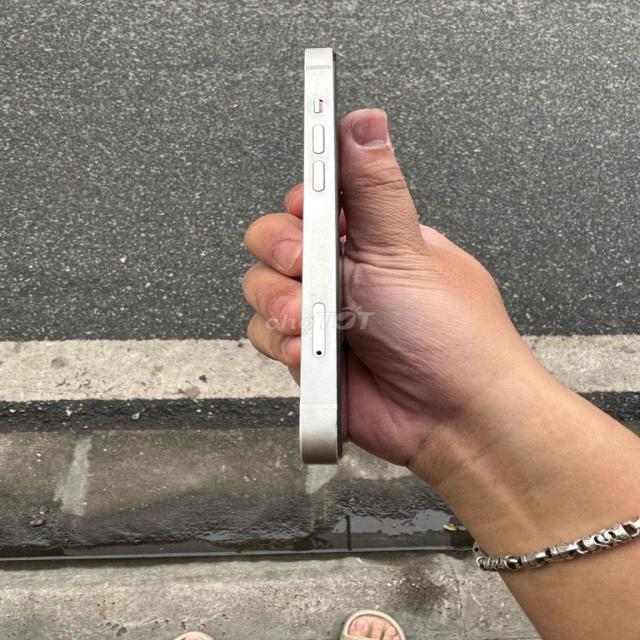gen_12_13: (293, 43, 352, 480)
